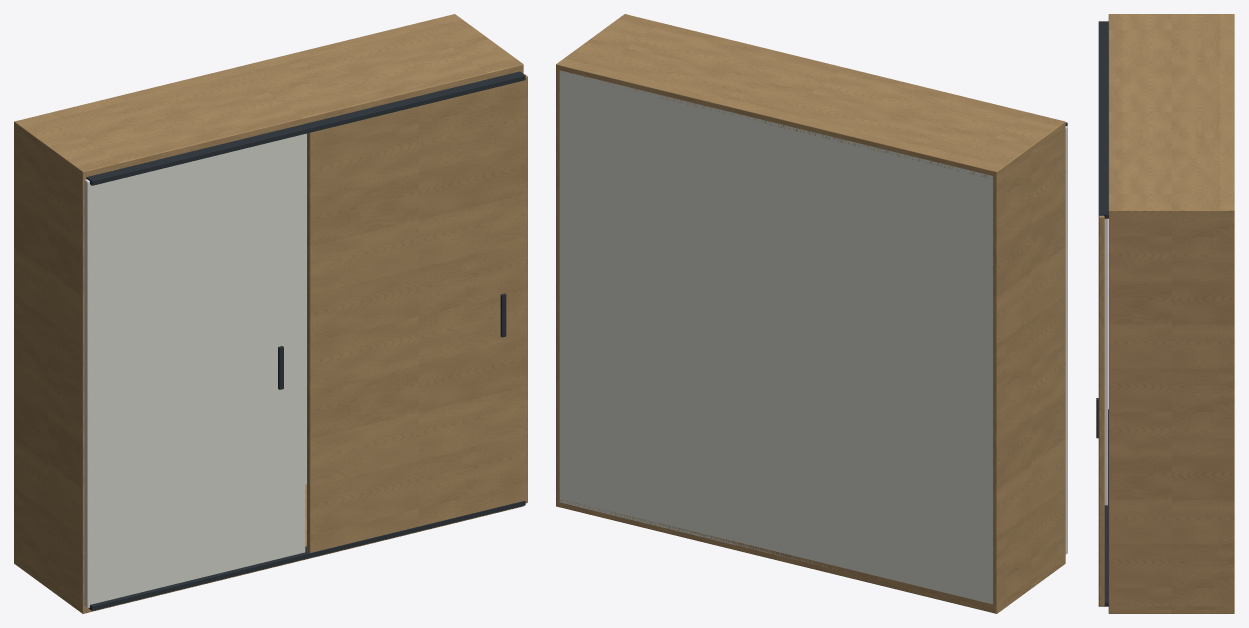
The picture shows the model from 3 angles, left to right: view 1: azimuth 30°, elevation 25°; view 2: azimuth 150°, elevation 25°; view 3: azimuth 270°, elevation 25°; orthographic projection. The views are drawn at different scales.
Visible parts, largest first — view 1: Wardrobe door.001, Wardrobe door, Cabinet top bottom.001, Cabinet side, Sliding door track.001, Sliding door track, Cabinet top bottom, Cabinet back; view 2: Cabinet back, Cabinet top bottom.001, Cabinet side, Cabinet top bottom, Cabinet side.001, Wardrobe door; view 3: Cabinet side.001, Cabinet top bottom.001, Wardrobe door.001, Sliding door track.001, Wardrobe door, Cabinet top bottom, Sliding door track.
Boxes of the visible parts, <box> form: Wardrobe door.001: <box>307,74,527,552</box>; Wardrobe door: <box>84,134,305,608</box>; Cabinet top bottom.001: <box>14,14,523,179</box>; Cabinet side: <box>14,120,86,613</box>; Sliding door track.001: <box>86,71,525,185</box>; Sliding door track: <box>89,500,525,610</box>; Cabinet top bottom: <box>14,484,522,612</box>; Cabinet back: <box>305,133,306,484</box>; Cabinet back: <box>559,70,992,604</box>; Cabinet top bottom.001: <box>556,14,1065,180</box>; Cabinet side: <box>993,120,1065,613</box>; Cabinet top bottom: <box>556,498,1065,613</box>; Cabinet side.001: <box>556,14,628,507</box>; Wardrobe door: <box>1065,126,1067,554</box>; Cabinet side.001: <box>1108,208,1234,613</box>; Cabinet top bottom.001: <box>1108,14,1234,218</box>; Wardrobe door.001: <box>1098,215,1104,606</box>; Sliding door track.001: <box>1098,21,1108,218</box>; Wardrobe door: <box>1104,218,1107,505</box>; Cabinet top bottom: <box>1109,606,1233,613</box>; Sliding door track: <box>1098,409,1108,606</box>.
Bounding box in the file's own units: 2.4 × 2.3 × 0.7135.
Materials: 3 (3 with a texture image).
